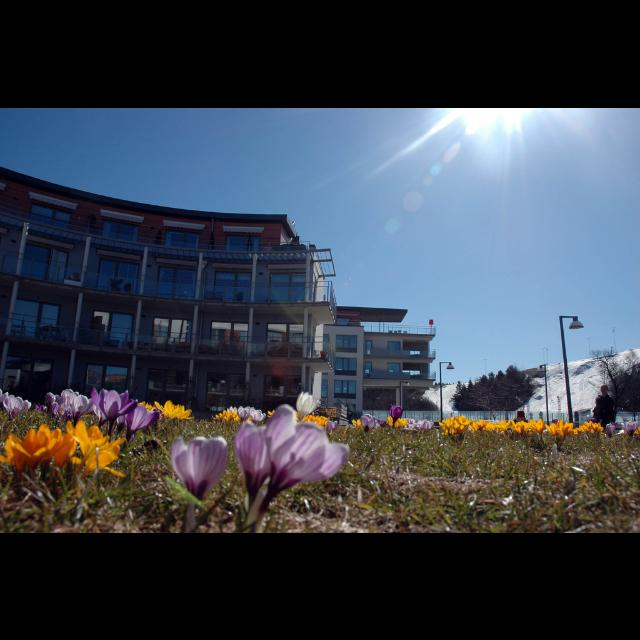Flower: (230, 412, 356, 504), (0, 419, 126, 487), (176, 435, 230, 509), (441, 416, 605, 436), (212, 404, 336, 426), (120, 398, 160, 436), (95, 386, 133, 422), (62, 388, 98, 416), (154, 396, 192, 422), (40, 386, 64, 418), (390, 417, 436, 433), (356, 412, 374, 438), (2, 394, 34, 408), (389, 406, 403, 426)
